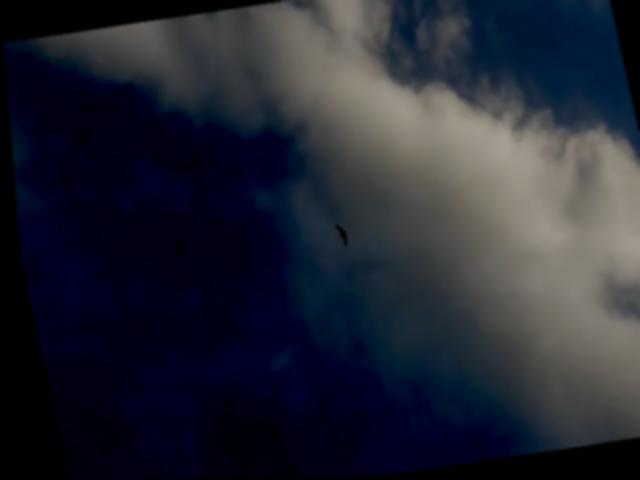plane: (330, 227, 347, 249)
